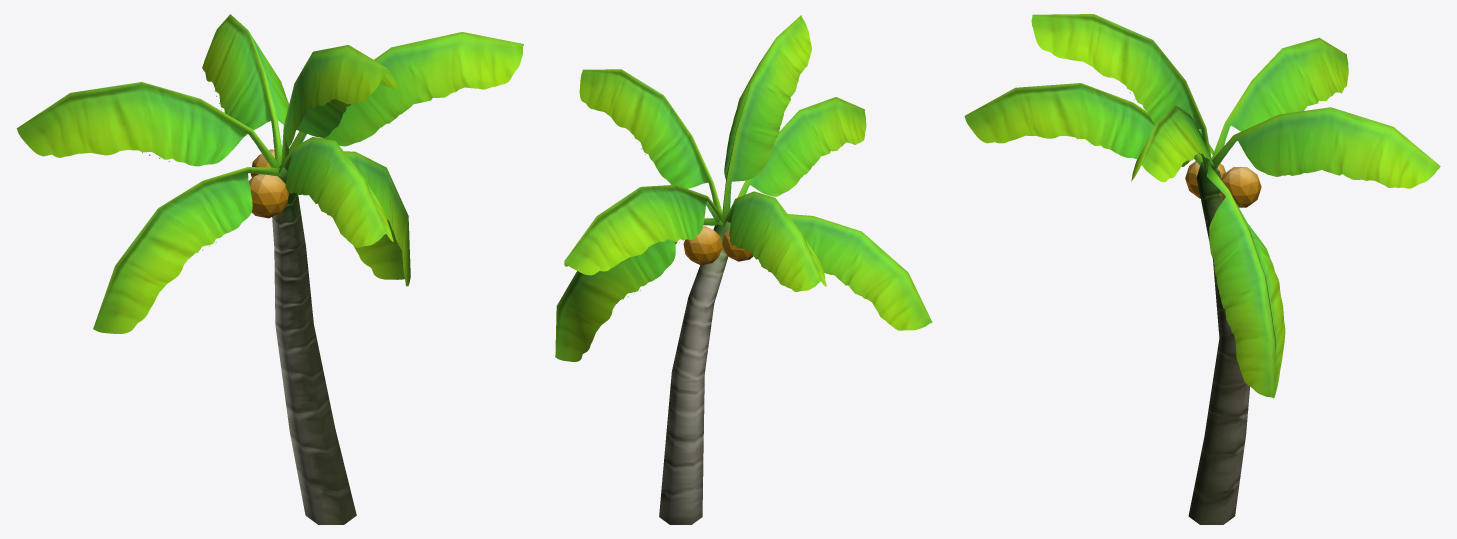
File: Cocoba01.fbx
3 renders of one model, left to right at view 1: azimuth 30°, elevation 25°; view 2: azimuth 150°, elevation 25°; view 3: azimuth 270°, elevation 25°, orthographic. The views are drawn at different scales.
Parts seen in each view (by area): view 1: coconut_trunk01; view 2: coconut_trunk01; view 3: coconut_trunk01.
Part boxes in pixels (x1,y1,x2,y2): coconut_trunk01: [16, 14, 523, 524]; coconut_trunk01: [555, 15, 932, 524]; coconut_trunk01: [964, 14, 1440, 524].
Bounding box in the file's own units: 2582 × 3081 × 2780.
